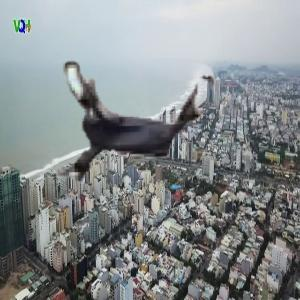drone: (33, 23, 226, 216)
